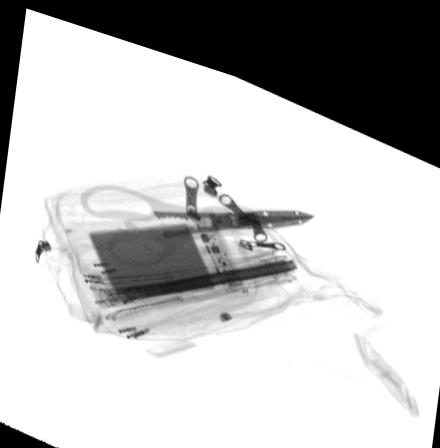Powerbank: (85, 203, 248, 292)
Scissors: (80, 175, 315, 258)
